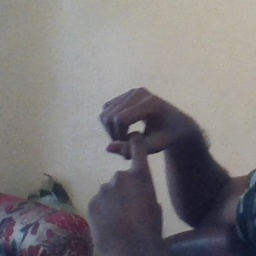Q: (82, 87, 187, 219)
